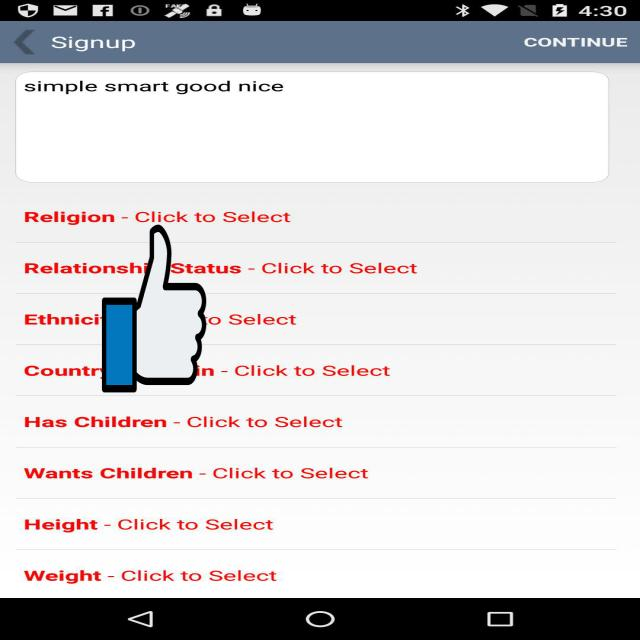privacy zuckering: (102, 221, 206, 396)
